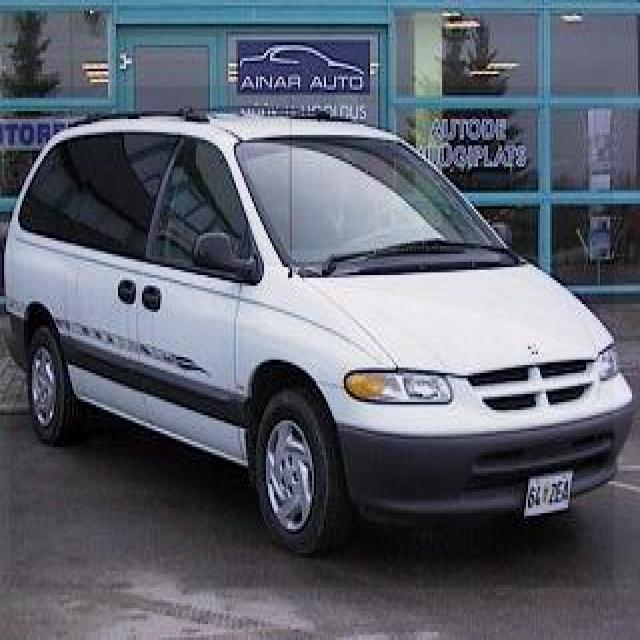Car: (10, 86, 614, 588)
